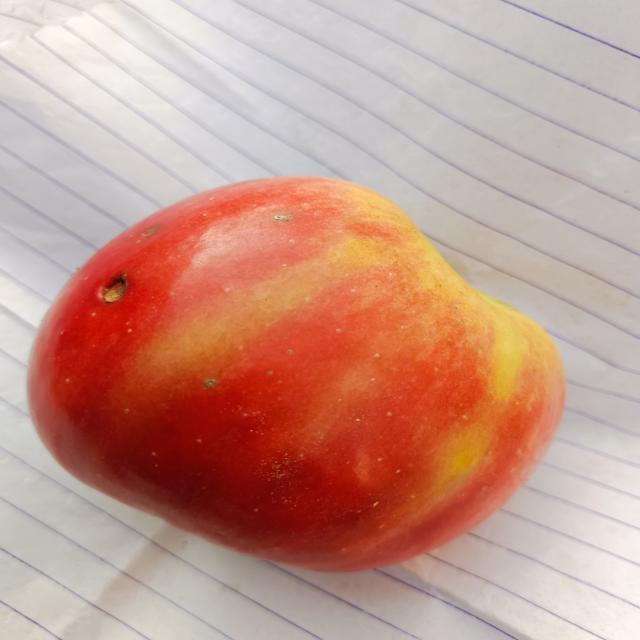Fresh Apple: (23, 167, 571, 567)
